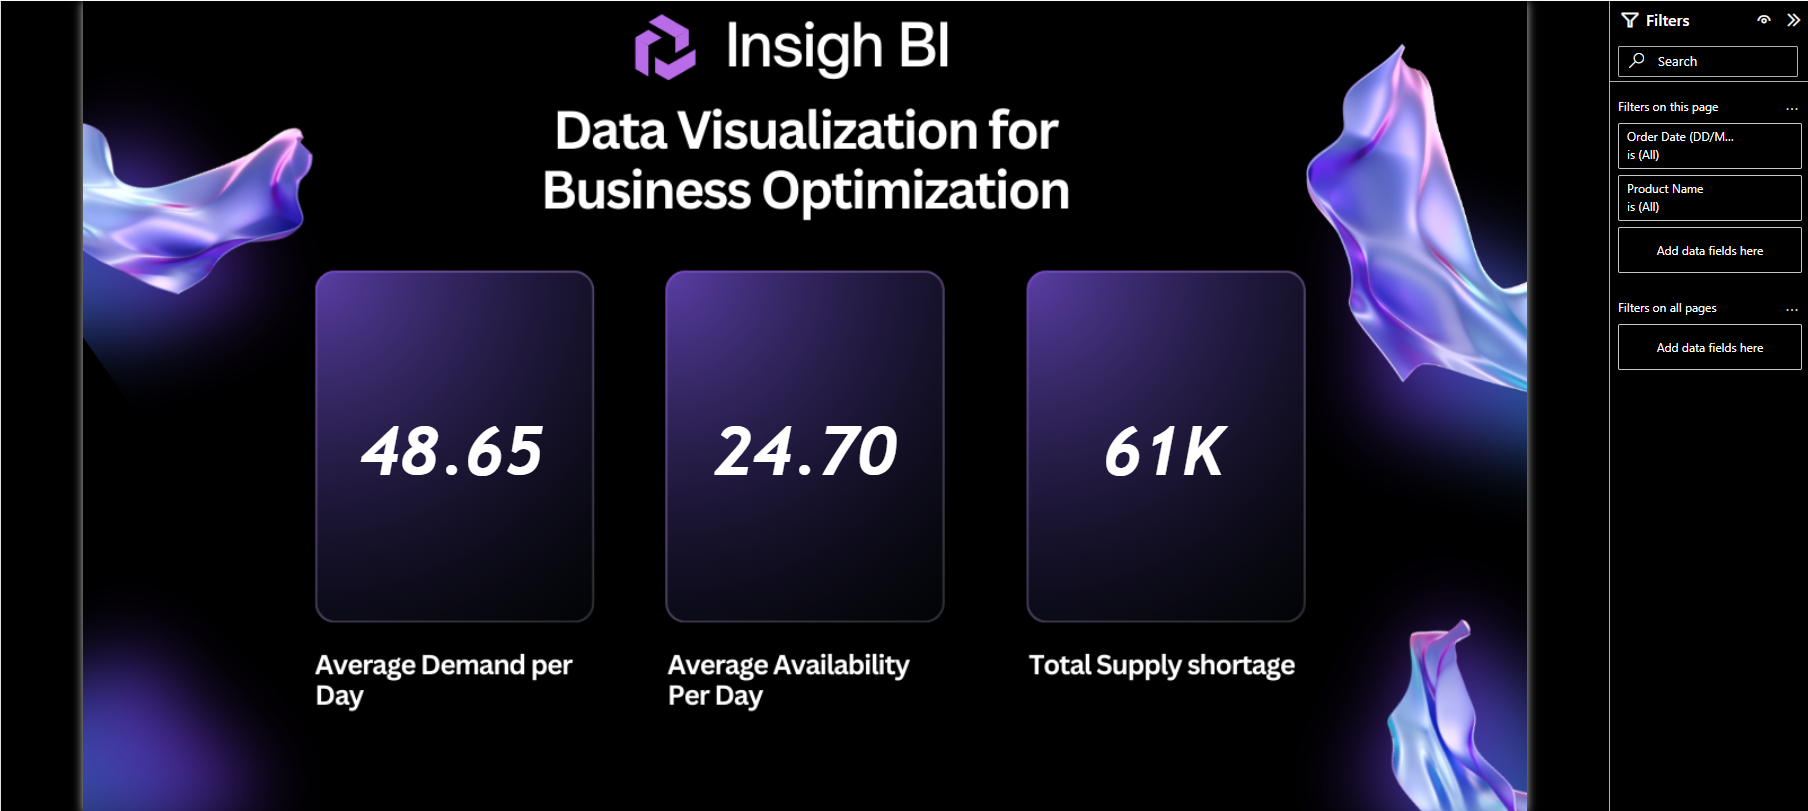

What the dashboard file says about the page in this screenshot:
{"tool":"powerbi","page":{"name":"Page 1","canvas":[1280,720],"ordinal":0},"visuals":[{"type":"card","fields":{"Values":["Measures Table.Average Demand Per Day"]},"box":[213.7,257.1,227,274.9],"z":0},{"type":"card","fields":{"Values":["Measures Table.Average Availability Per Day"]},"box":[526.7,257.1,227,274.9],"z":1000},{"type":"card","fields":{"Values":["Measures Table.Total Supply shortage"]},"box":[845,257.1,227,274.9],"z":2000}]}

Visuals, with their boxes on the page's 1280x720 design canvas (x1, y1, x2, y2). These are canvas units, not pixel positions in the 1808x811 screenshot, which may show the page scaled, cropped or inside an application window:
card - Measures Table.Average Demand Per Day: bbox(214, 257, 441, 532)
card - Measures Table.Average Availability Per Day: bbox(527, 257, 754, 532)
card - Measures Table.Total Supply shortage: bbox(845, 257, 1072, 532)
